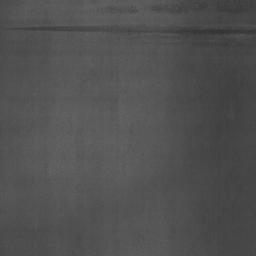Crease: (9, 26, 256, 35)
